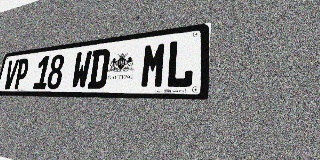1: (33, 55, 52, 89)
8: (46, 54, 66, 89)
D: (87, 48, 111, 89)
L: (165, 38, 195, 88)
M: (140, 41, 168, 88)
P: (13, 58, 30, 89)
V: (2, 59, 19, 89)
W: (70, 50, 93, 89)
